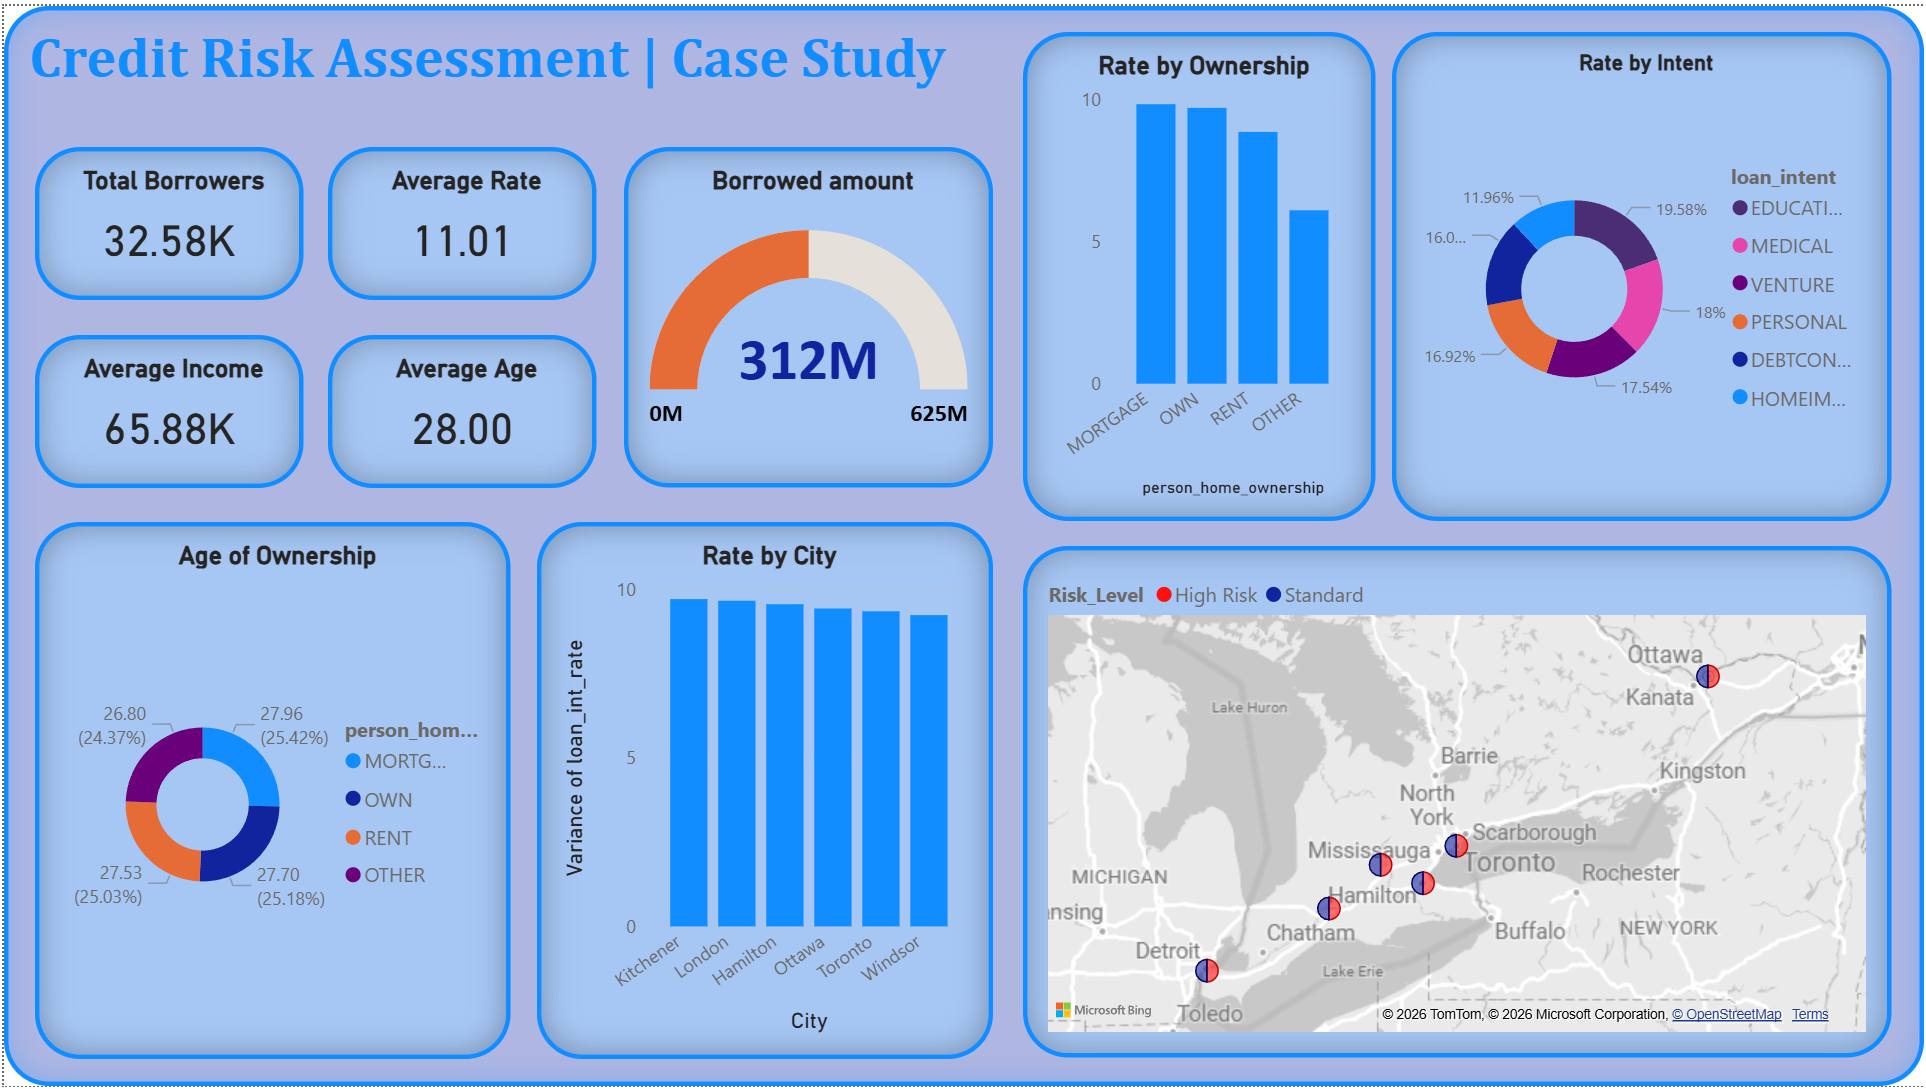

What the dashboard file says about the page in this screenshot:
{"tool":"powerbi","page":{"name":"Main","canvas":[1280,720],"ordinal":0},"visuals":[{"type":"textbox","title":"Credit Risk Assessment | Case Study","box":[0,0,1280.1,720],"z":0},{"type":"gauge","title":"Borrowed amount","fields":{"Y":["Sum(Fact_Credit_Risk.loan_amnt)"]},"box":[413.3,94,246.2,227],"z":1000},{"type":"card","title":"Total Borrowers","fields":{"Values":["CountNonNull(Fact_Credit_Risk.loan_amnt)"]},"box":[20.4,94,179.1,101.8],"z":2000},{"type":"map","fields":{"X":["Dim_Locations.Longitude"],"Y":["Dim_Locations.Latitude"],"Series":["Fact_Credit_Risk.Risk_Level"]},"box":[679.3,360,579.2,341.4],"z":3000},{"type":"card","title":"Average Income","fields":{"Values":["Avg(Fact_Credit_Risk.person_income)"]},"box":[20.4,219.2,179.1,101.8],"z":4000},{"type":"card","title":"Average Age","fields":{"Values":["Fact_Credit_Risk.Average Age"]},"box":[216.2,219.2,179.1,101.8],"z":5000},{"type":"card","title":"Average Rate","fields":{"Values":["Avg(Fact_Credit_Risk.loan_int_rate)"]},"box":[216.2,94,179.1,101.8],"z":6000},{"type":"lineClusteredColumnComboChart","title":"Rate by City","fields":{"Y":["Sum(Fact_Credit_Risk.loan_int_rate)"],"Category":["Fact_Credit_Risk.City"]},"box":[355.2,343.8,304.3,357.6],"z":7000},{"type":"donutChart","title":"Age of Ownership","fields":{"Y":["Avg(Fact_Credit_Risk.person_age)"],"Category":["Fact_Credit_Risk.person_home_ownership"]},"box":[20.4,343.8,317.5,357.6],"z":8000},{"type":"lineClusteredColumnComboChart","title":"Rate by Ownership","fields":{"Y":["Sum(Fact_Credit_Risk.loan_int_rate)"],"Category":["Fact_Credit_Risk.person_home_ownership"]},"box":[679.3,17.4,235.4,326.5],"z":9000},{"type":"donutChart","title":"Rate by Intent","fields":{"Category":["Fact_Credit_Risk.loan_intent"],"Y":["Sum(Fact_Credit_Risk.loan_amnt)"]},"box":[925.5,17.4,333,326.5],"z":10000}]}

Visuals, with their boxes in screenshot pixels (x1, y1, x2, y2), scaled from the page's 1280x720 canvas onto the 1926x1089 screenshot:
"Credit Risk Assessment | Case Study" textbox: x1=0 y1=0 x2=1925 y2=1088
"Borrowed amount" gauge: x1=622 y1=142 x2=992 y2=486
"Total Borrowers" card: x1=31 y1=142 x2=300 y2=296
map - Dim_Locations.Longitude x Dim_Locations.Latitude: x1=1022 y1=544 x2=1894 y2=1061
"Average Income" card: x1=31 y1=332 x2=300 y2=486
"Average Age" card: x1=325 y1=332 x2=595 y2=486
"Average Rate" card: x1=325 y1=142 x2=595 y2=296
"Rate by City" lineClusteredColumnComboChart: x1=534 y1=520 x2=992 y2=1061
"Age of Ownership" donutChart: x1=31 y1=520 x2=508 y2=1061
"Rate by Ownership" lineClusteredColumnComboChart: x1=1022 y1=26 x2=1376 y2=520
"Rate by Intent" donutChart: x1=1393 y1=26 x2=1894 y2=520
